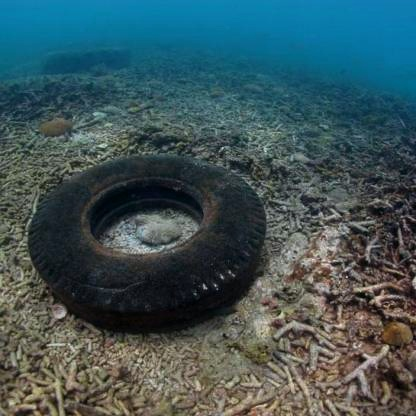tire: (33, 155, 272, 346)
